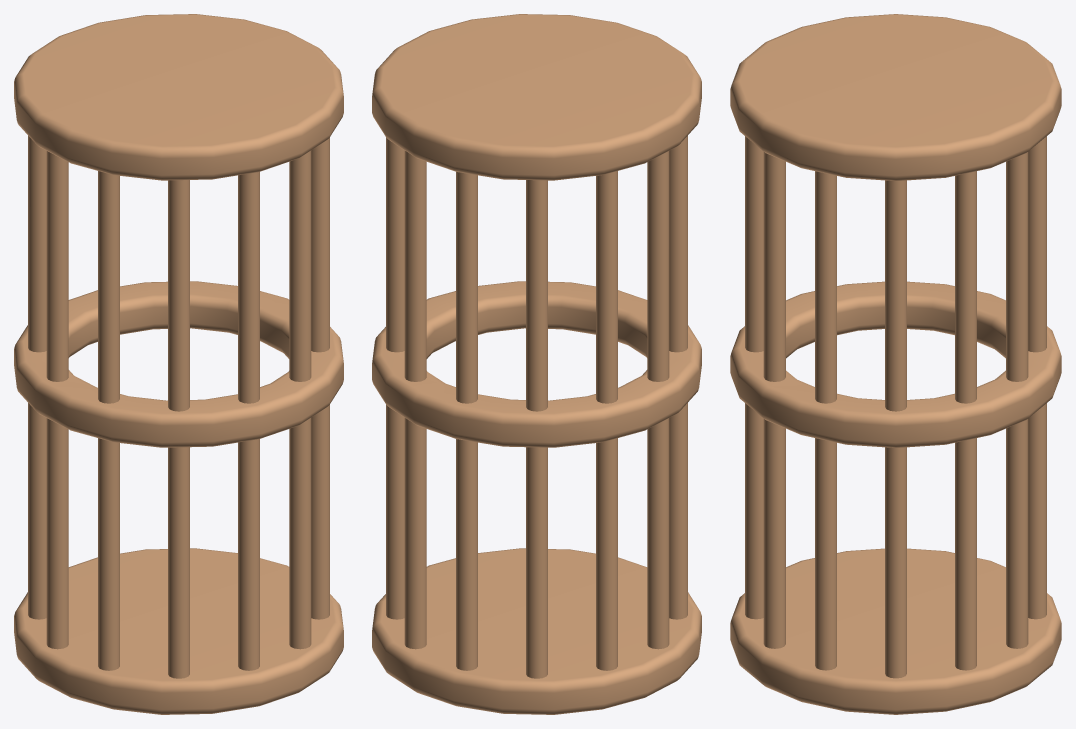
Rendered from rattletower.fbx.
The picture shows the model from 3 angles, left to right: view 1: azimuth 30°, elevation 25°; view 2: azimuth 150°, elevation 25°; view 3: azimuth 270°, elevation 25°; orthographic projection.
Parts seen in each view (by area): view 1: rattletower; view 2: rattletower; view 3: rattletower.
Boxes of the visible parts, x1,y1,x2,y2 form: rattletower: (14, 14, 343, 714); rattletower: (372, 14, 701, 714); rattletower: (730, 14, 1061, 714).
Size of the model in its own units: 9 by 17 by 9.
Materials: 1 (1 with a texture image).
